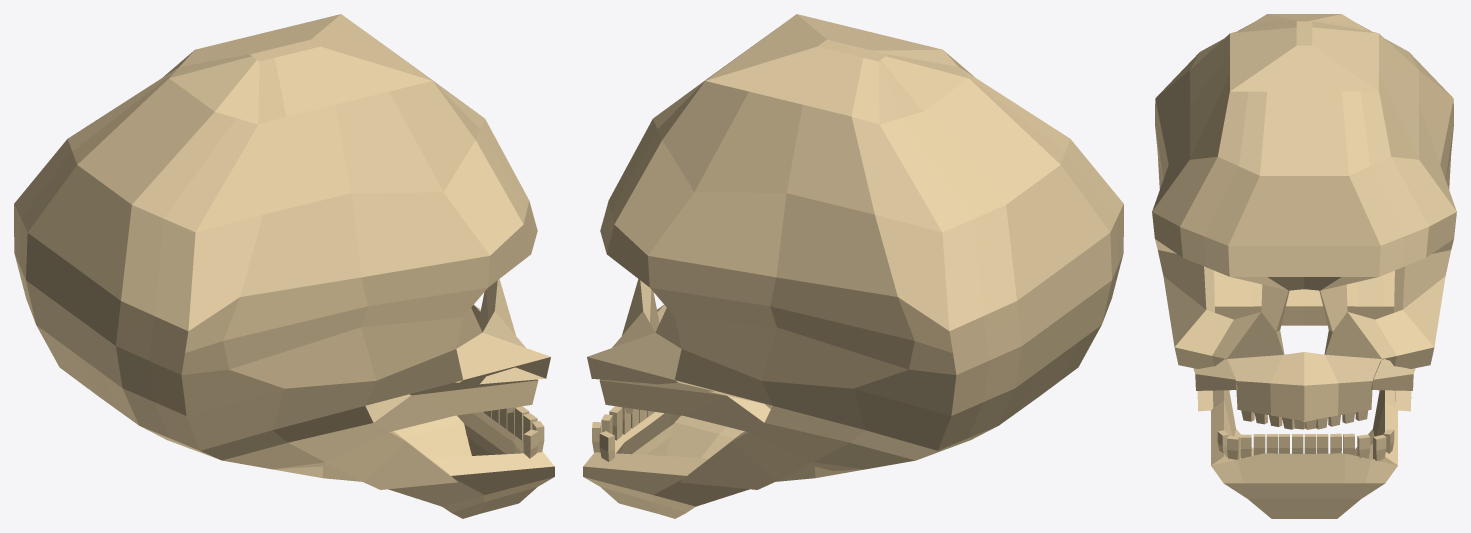
Rendered from Skull.fbx.
The picture shows the model from 3 angles, left to right: view 1: azimuth 30°, elevation 25°; view 2: azimuth 150°, elevation 25°; view 3: azimuth 270°, elevation 25°; orthographic projection. The views are drawn at different scales.
Visible parts, largest first — view 1: Top; view 2: Top; view 3: Top.
Part boxes in pixels (x1,y1,x2,y2): Top: (14, 14, 554, 518); Top: (583, 14, 1123, 518); Top: (1152, 14, 1456, 518).
Size of the model in its own units: 196 by 211 by 145.
